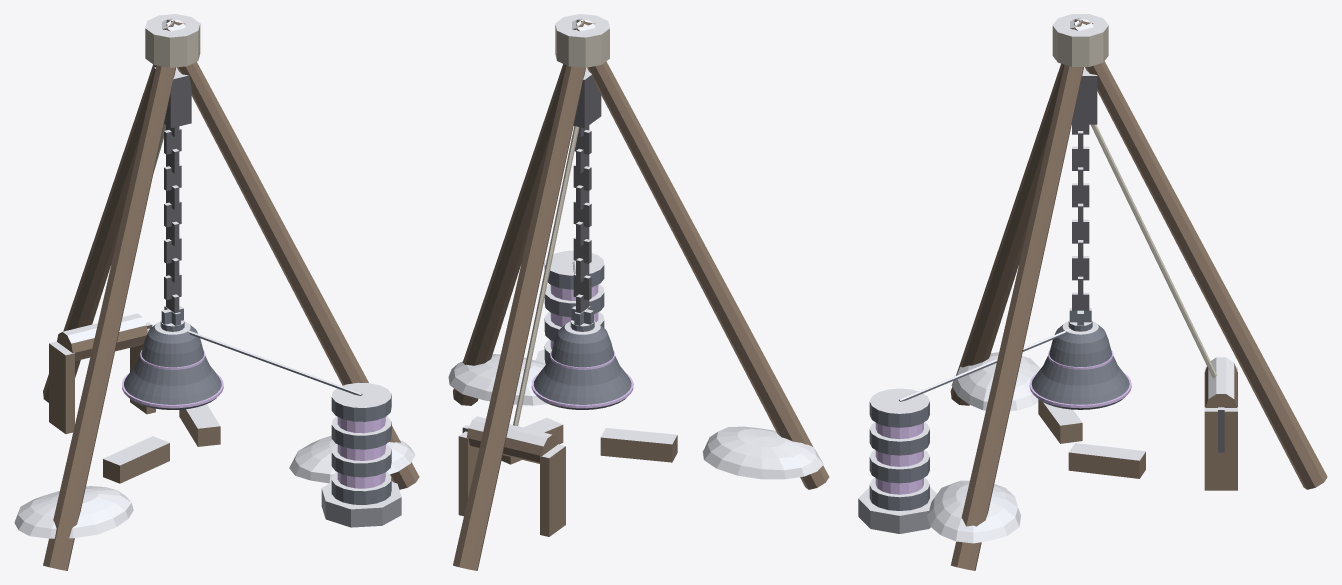
File: PR_Cabrilha_Ressonancia.fbx
3 views of the same model, side by side, from view 1: azimuth 30°, elevation 25°; view 2: azimuth 150°, elevation 25°; view 3: azimuth 270°, elevation 25° (orthographic).
Parts seen in each view (by area): view 1: PR_Cabrilha_Ressonancia; view 2: PR_Cabrilha_Ressonancia; view 3: PR_Cabrilha_Ressonancia.
Part boxes in pixels (left/top/right/bottom): PR_Cabrilha_Ressonancia: left=14, top=14, right=419, bottom=570; PR_Cabrilha_Ressonancia: left=448, top=14, right=829, bottom=570; PR_Cabrilha_Ressonancia: left=858, top=14, right=1327, bottom=570.
Size of the model in its own units: 6.57 by 7.7 by 7.01.
